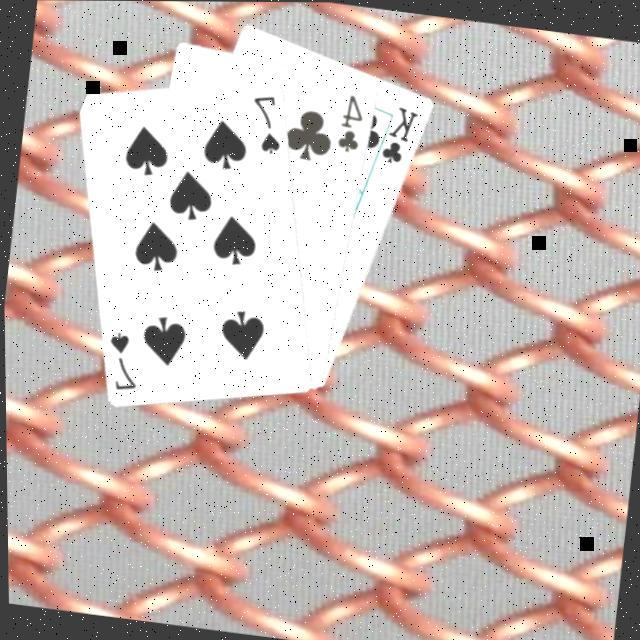4C: (334, 90, 372, 157)
7S: (245, 89, 291, 157), (100, 327, 146, 395)
KC: (370, 100, 424, 172)
